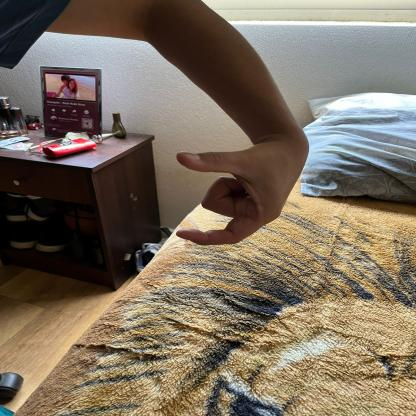G: (171, 145, 304, 252)
